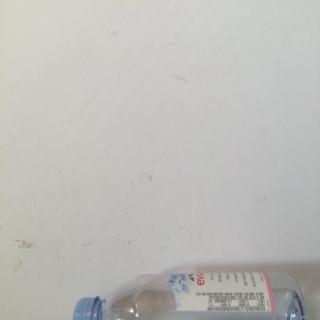Plastic-bottle: (73, 269, 310, 320)
